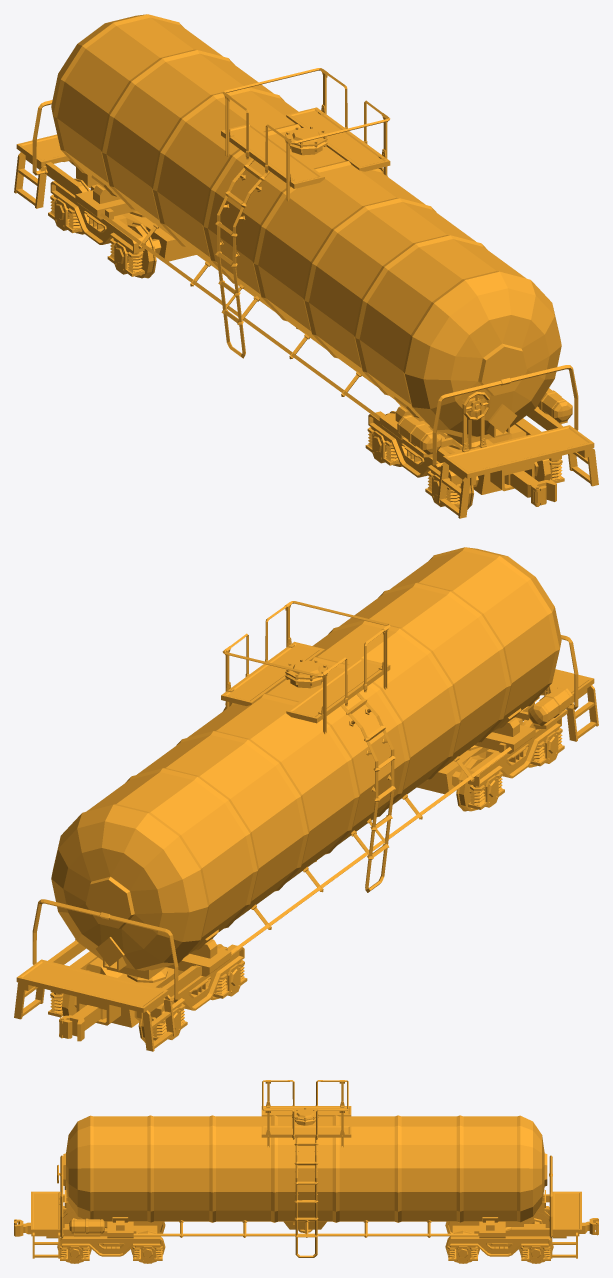
The model's file is SM_Train_Wagon_Cistern.fbx.
3 views of the same model, one above another, from view 1: azimuth 30°, elevation 25°; view 2: azimuth 150°, elevation 25°; view 3: azimuth 270°, elevation 25° (orthographic). The views are drawn at different scales.
Visible parts, largest first — view 1: SM_Train_Wagon_Cistern_Base, SM_Train_Wagon_Cistern_Base_Chassis_B, SM_Train_Wagon_Cistern_Base_Chassis_F, SM_Train_Wagon_Cistern_Base_Joint_F, SM_Train_Wagon_Cistern_Base_Wheel_B1; view 2: SM_Train_Wagon_Cistern_Base, SM_Train_Wagon_Cistern_Base_Chassis_B, SM_Train_Wagon_Cistern_Base_Chassis_F, SM_Train_Wagon_Cistern_Base_Joint_B, SM_Train_Wagon_Cistern_Base_Wheel_F2; view 3: SM_Train_Wagon_Cistern_Base, SM_Train_Wagon_Cistern_Base_Chassis_B, SM_Train_Wagon_Cistern_Base_Chassis_F, SM_Train_Wagon_Cistern_Base_Wheel_B2.
Boxes of the visible parts, box(x1,y1,x2,y2) form: SM_Train_Wagon_Cistern_Base: box(14, 14, 598, 518); SM_Train_Wagon_Cistern_Base_Chassis_B: box(48, 181, 196, 276); SM_Train_Wagon_Cistern_Base_Chassis_F: box(365, 411, 564, 507); SM_Train_Wagon_Cistern_Base_Joint_F: box(504, 471, 556, 506); SM_Train_Wagon_Cistern_Base_Wheel_B1: box(128, 222, 161, 278); SM_Train_Wagon_Cistern_Base: box(14, 547, 598, 1051); SM_Train_Wagon_Cistern_Base_Chassis_B: box(48, 944, 247, 1040); SM_Train_Wagon_Cistern_Base_Chassis_F: box(417, 717, 564, 809); SM_Train_Wagon_Cistern_Base_Joint_B: box(59, 1005, 106, 1041); SM_Train_Wagon_Cistern_Base_Wheel_F2: box(452, 755, 484, 811); SM_Train_Wagon_Cistern_Base: box(31, 1080, 581, 1258); SM_Train_Wagon_Cistern_Base_Chassis_B: box(447, 1206, 550, 1263); SM_Train_Wagon_Cistern_Base_Chassis_F: box(60, 1206, 163, 1263); SM_Train_Wagon_Cistern_Base_Wheel_B2: box(519, 1211, 553, 1263).
Size of the model in its own units: 3.19 by 4.77 by 16.03.
